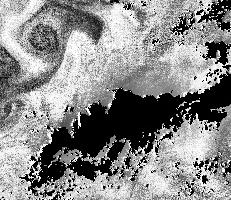CE: (19, 17, 66, 54)
